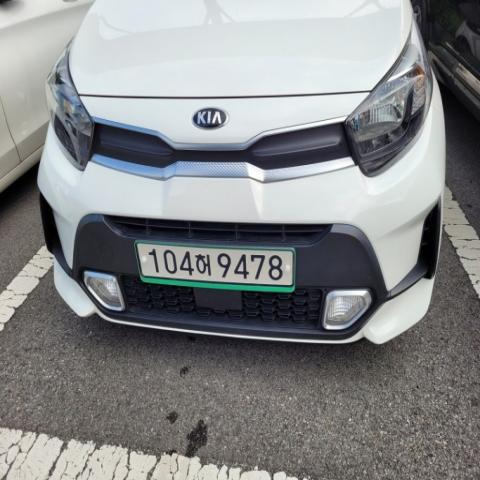LP: (120, 231, 298, 298)
